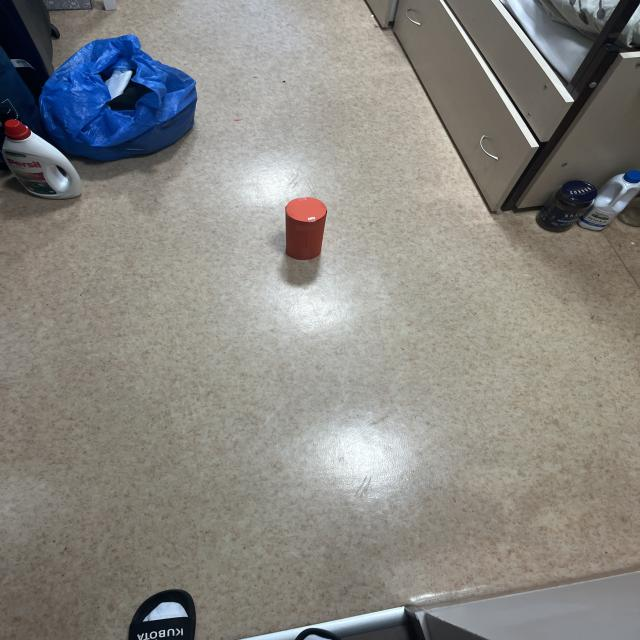przeszkoda: (286, 197, 327, 260)
